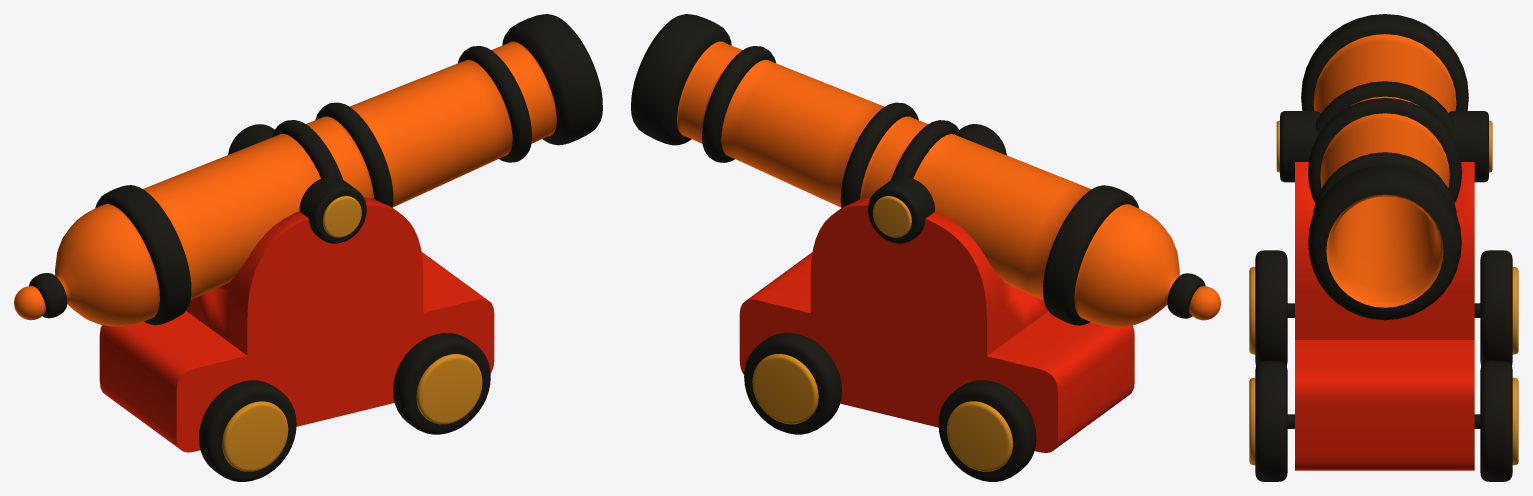
3 renders of one model, left to right at view 1: azimuth 30°, elevation 25°; view 2: azimuth 150°, elevation 25°; view 3: azimuth 270°, elevation 25°, orthographic. The views are drawn at different scales.
Visible parts, largest first — view 1: Box027, Cylinder095, Group131, Cylinder088, Cylinder090, Group125, Group124, Cylinder093, Group128, Sphere097, Cylinder094; view 2: Box027, Cylinder095, Group131, Cylinder091, Cylinder092, Group127, Group126, Cylinder094, Group129, Sphere097, Cylinder093; view 3: Box027, Cylinder095, Group131, Cylinder090, Cylinder092, Cylinder088, Cylinder091, Cylinder093, Cylinder094, Group124, Group125, Group126 (+1 smaller).
Part boxes in pixels (box(x1,y1,x2,y2)): Box027: box(99, 197, 494, 452); Cylinder095: box(55, 41, 556, 326); Group131: box(29, 14, 602, 325); Cylinder088: box(199, 380, 296, 481); Cylinder090: box(393, 333, 490, 434); Group125: box(416, 354, 482, 424); Group124: box(222, 401, 288, 471); Cylinder093: box(299, 176, 366, 243); Group128: box(322, 196, 361, 237); Sphere097: box(14, 286, 45, 320); Cylinder094: box(228, 124, 274, 154); Box027: box(739, 198, 1134, 452); Cylinder095: box(677, 41, 1179, 326); Group131: box(631, 14, 1205, 325); Cylinder091: box(938, 380, 1036, 481); Cylinder092: box(744, 332, 841, 434); Group127: box(752, 354, 818, 424); Group126: box(947, 401, 1012, 471); Cylinder094: box(868, 176, 934, 243); Group129: box(873, 196, 911, 237); Sphere097: box(1189, 286, 1220, 320); Cylinder093: box(959, 124, 1006, 154); Box027: box(1295, 162, 1474, 470); Cylinder095: box(1313, 34, 1456, 307); Group131: box(1301, 14, 1468, 320); Cylinder090: box(1255, 361, 1294, 481); Cylinder092: box(1474, 361, 1512, 481); Cylinder088: box(1255, 250, 1294, 365); Cylinder091: box(1474, 250, 1512, 365); Cylinder093: box(1280, 111, 1320, 182); Cylinder094: box(1448, 111, 1488, 182); Group124: box(1249, 267, 1255, 354); Group125: box(1249, 377, 1255, 465); Group126: box(1512, 267, 1518, 354).
Size of the model in its own units: 62.65 by 35.57 by 22.06.
